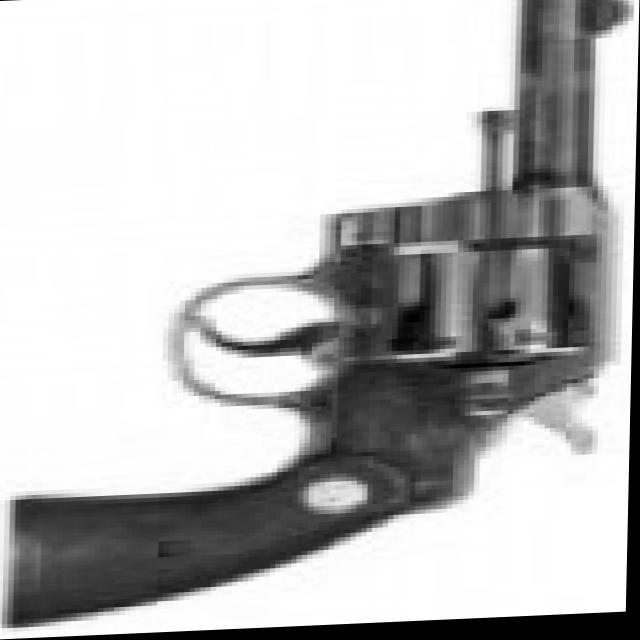handgun: (16, 0, 640, 615)
